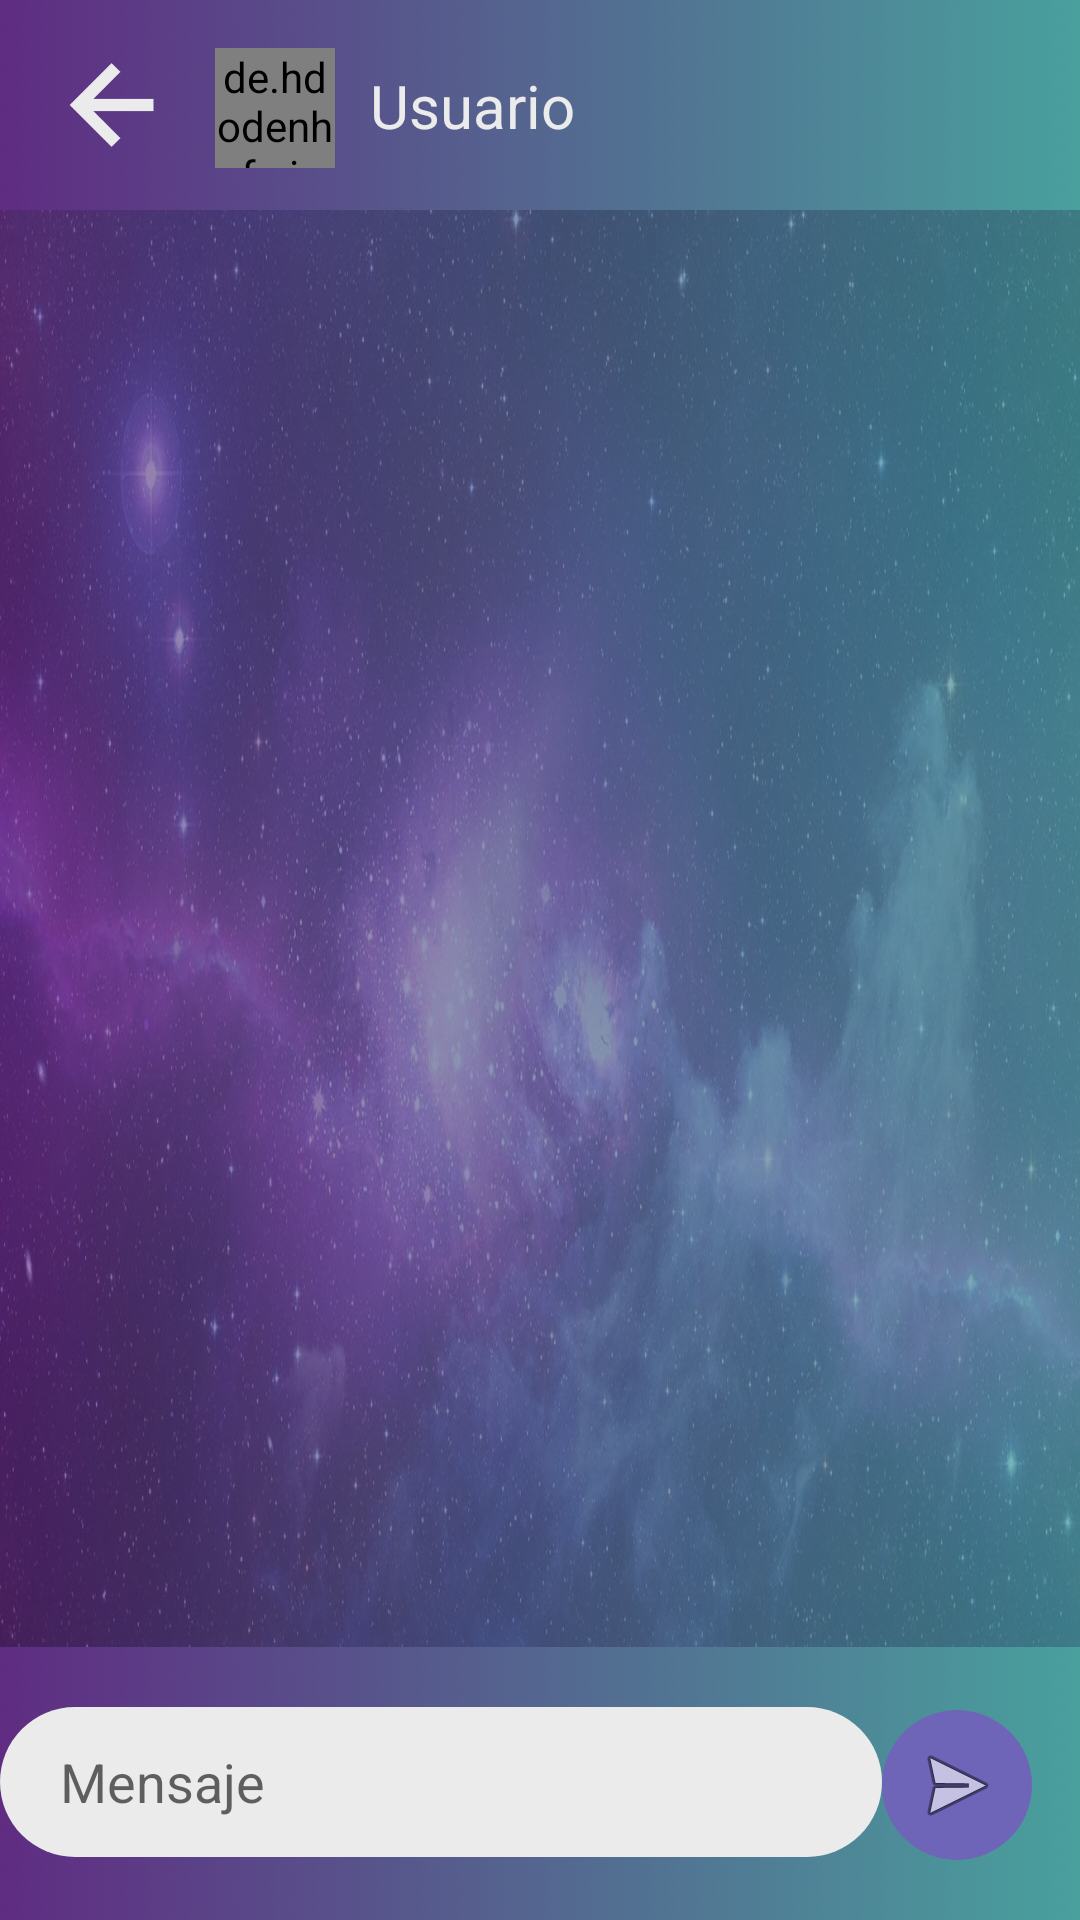

Icons on this 1080*1920 Android screen, each with the point to tap as [x,y]:
left arrow: [112,105]
send: [957,1785]
